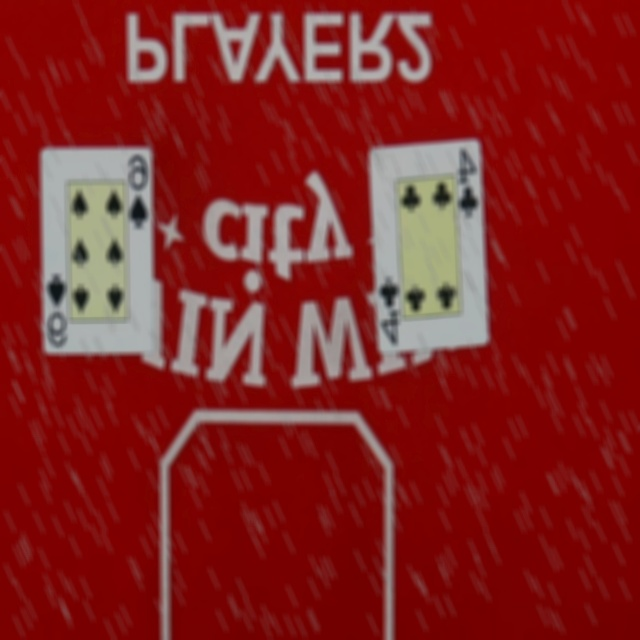4C: (378, 276, 405, 354), (458, 145, 484, 225)
6S: (42, 270, 70, 352), (126, 151, 153, 231)
